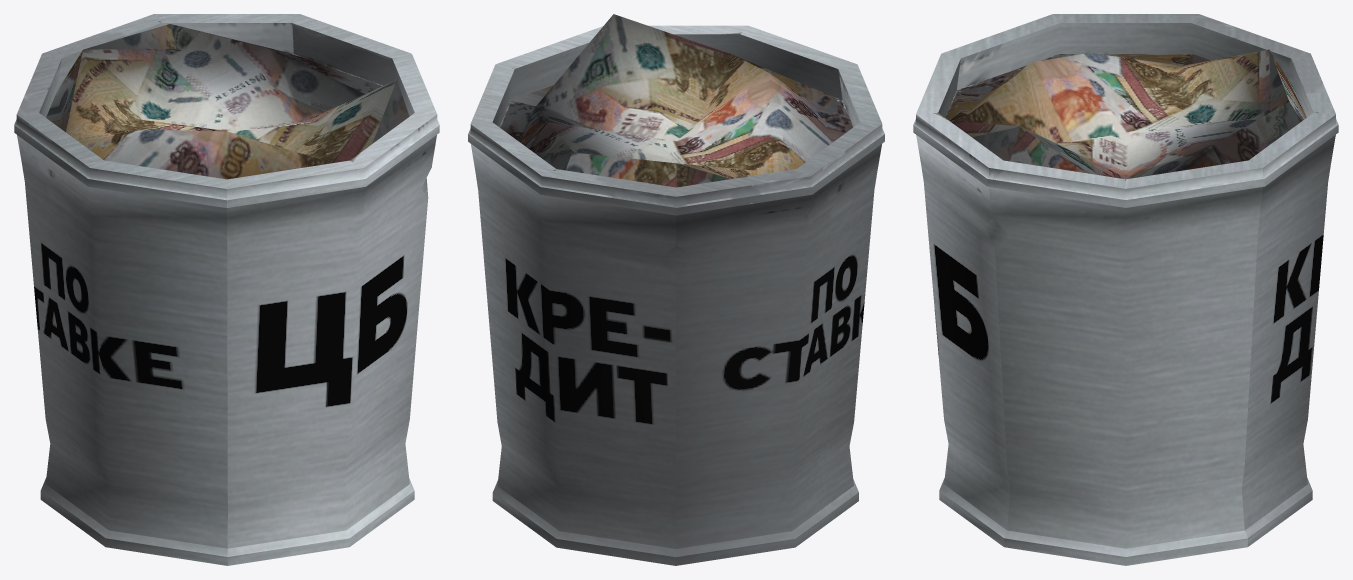
Rendered from can.fbx.
3 views of the same model, side by side, from view 1: azimuth 30°, elevation 25°; view 2: azimuth 150°, elevation 25°; view 3: azimuth 270°, elevation 25° (orthographic). The views are drawn at different scales.
Parts seen in each view (by area): view 1: Cylinder; view 2: Cylinder; view 3: Cylinder.
Boxes of the visible parts, x1,y1,x2,y2 form: Cylinder: [14, 14, 439, 565]; Cylinder: [468, 14, 884, 565]; Cylinder: [913, 14, 1338, 565].
Size of the model in its own units: 98.14 by 108 by 99.66.
Materials: 1 (1 with a texture image).
